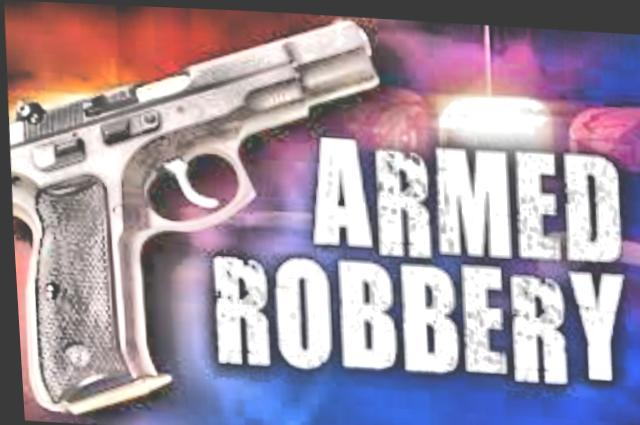pistol: (0, 0, 388, 421)
